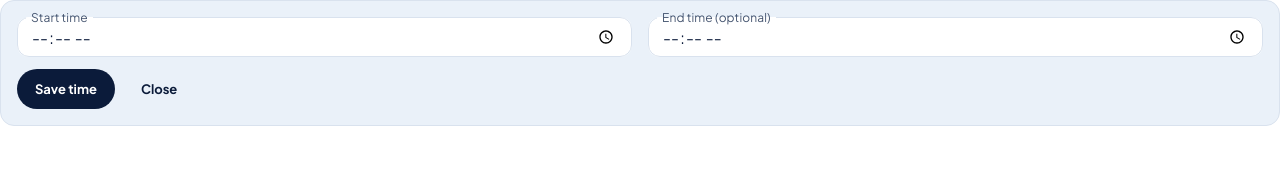
Scenario: when the planner refuses › shows a general message for a failed request, and clears it on the next try
Type "10:00" into the time field labelled "Start time" at (324, 37), box left=17, top=17, right=632, bottom=57
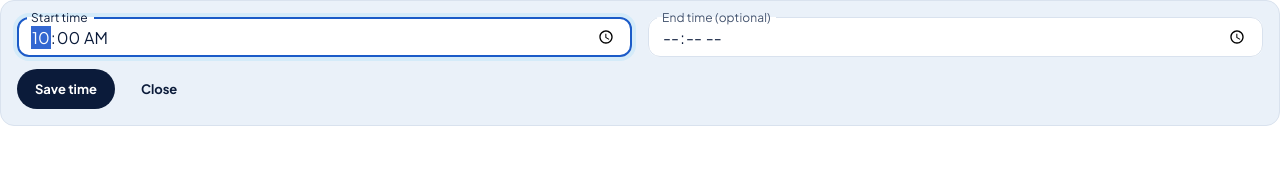
Click the button "Save time" at (66, 89), box left=17, top=69, right=115, bottom=109
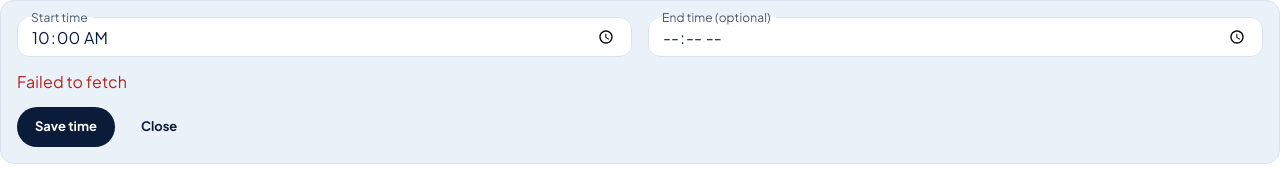
Expected: the message reads "Failed to fetch", left=17, top=71, right=127, bottom=92
Click the button "Save time" at (66, 127), box left=17, top=107, right=115, bottom=147
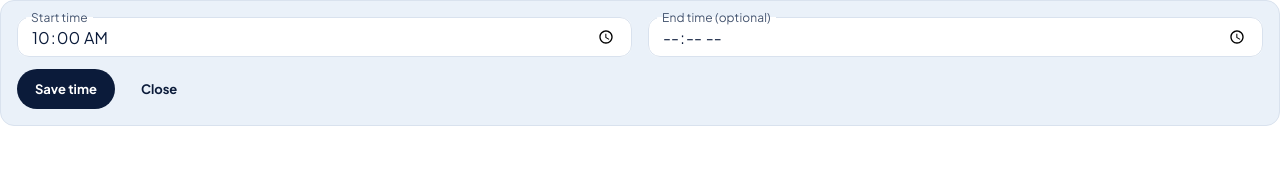
Expected: the message "Failed to fetch" is gone
